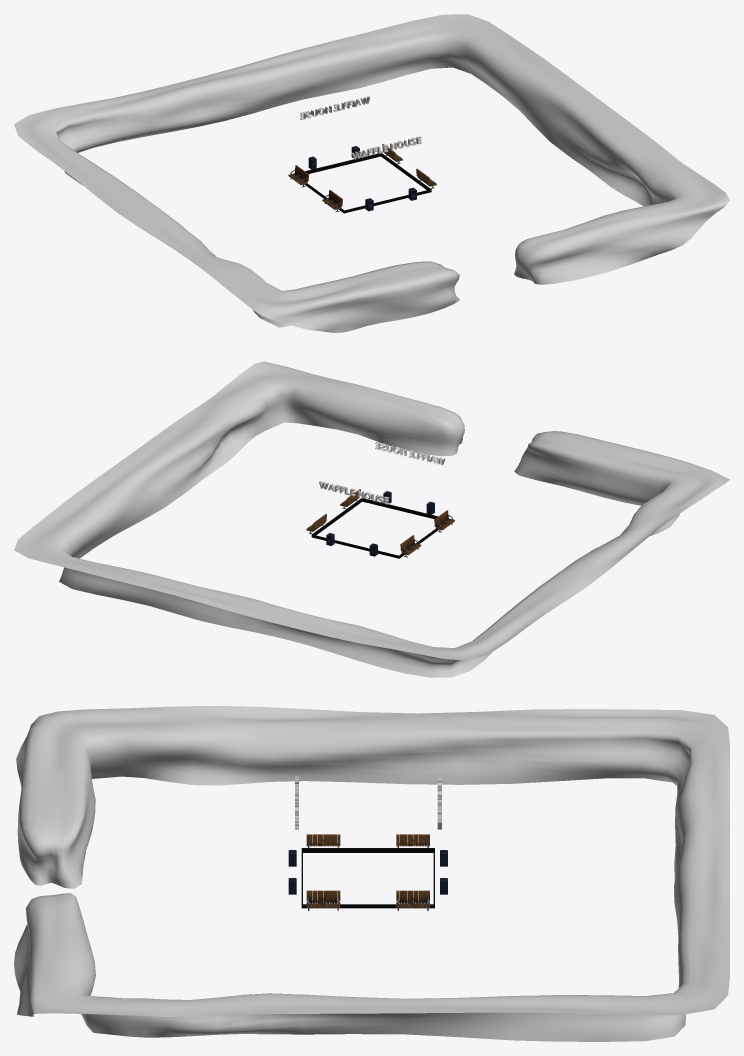
Rendered from passthrough.obj.
3 renders of one model, top to bottom at view 1: azimuth 30°, elevation 25°; view 2: azimuth 150°, elevation 25°; view 3: azimuth 270°, elevation 25°, orthographic. The views are drawn at different scales.
Visible parts, largest first — view 1: Bush, Passthrough, Logo; view 2: Bush, Passthrough, Logo; view 3: Bush, Passthrough.
Boxes of the visible parts, left/top/right/bottom form: Bush: left=14, top=14, right=729, bottom=332; Passthrough: left=288, top=144, right=436, bottom=213; Logo: left=300, top=96, right=421, bottom=159; Bush: left=14, top=361, right=729, bottom=677; Passthrough: left=306, top=489, right=454, bottom=558; Logo: left=319, top=442, right=445, bottom=504; Bush: left=14, top=706, right=729, bottom=1041; Passthrough: left=288, top=834, right=447, bottom=910.
Bounding box in the file's own units: 31.5 × 4.94 × 31.15.
